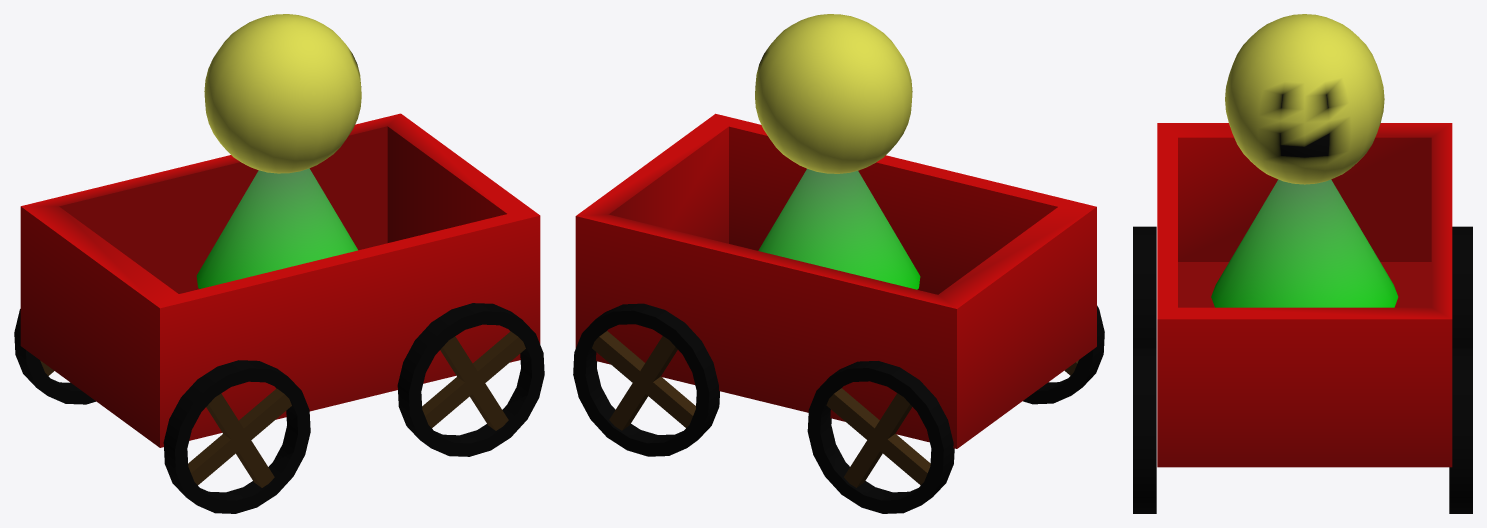
Rendered from cart4.fbx.
3 renders of one model, left to right at view 1: azimuth 30°, elevation 25°; view 2: azimuth 150°, elevation 25°; view 3: azimuth 270°, elevation 25°, orthographic. The views are drawn at different scales.
Visible parts, largest first — view 1: cart, pSphere1, wheel, wheel1, pCone1, wheel2; view 2: cart, pSphere1, wheel3, wheel2, pCone1, wheel1; view 3: cart, pSphere1, pCone1, wheel, wheel3, wheel1, wheel2.
Part boxes in pixels (x1=…): cart: x1=20, y1=113, x2=540, y2=447; pSphere1: x1=204, y1=14, x2=361, y2=173; wheel: x1=397, y1=303, x2=544, y2=456; wheel1: x1=163, y1=360, x2=310, y2=513; pCone1: x1=196, y1=168, x2=357, y2=288; wheel2: x1=14, y1=309, x2=95, y2=404; cart: x1=575, y1=113, x2=1096, y2=448; pSphere1: x1=755, y1=14, x2=912, y2=173; wheel3: x1=573, y1=303, x2=719, y2=456; wheel2: x1=807, y1=361, x2=954, y2=513; pCone1: x1=758, y1=168, x2=920, y2=289; wheel1: x1=1023, y1=305, x2=1104, y2=404; cart: x1=1157, y1=123, x2=1452, y2=467; pSphere1: x1=1225, y1=14, x2=1384, y2=184; pCone1: x1=1211, y1=179, x2=1398, y2=307; wheel: x1=1133, y1=347, x2=1156, y2=513; wheel3: x1=1449, y1=347, x2=1472, y2=513; wheel1: x1=1133, y1=226, x2=1156, y2=347; wheel2: x1=1452, y1=226, x2=1472, y2=347.
Size of the model in its own units: 2.85 by 2.88 by 2.08.
